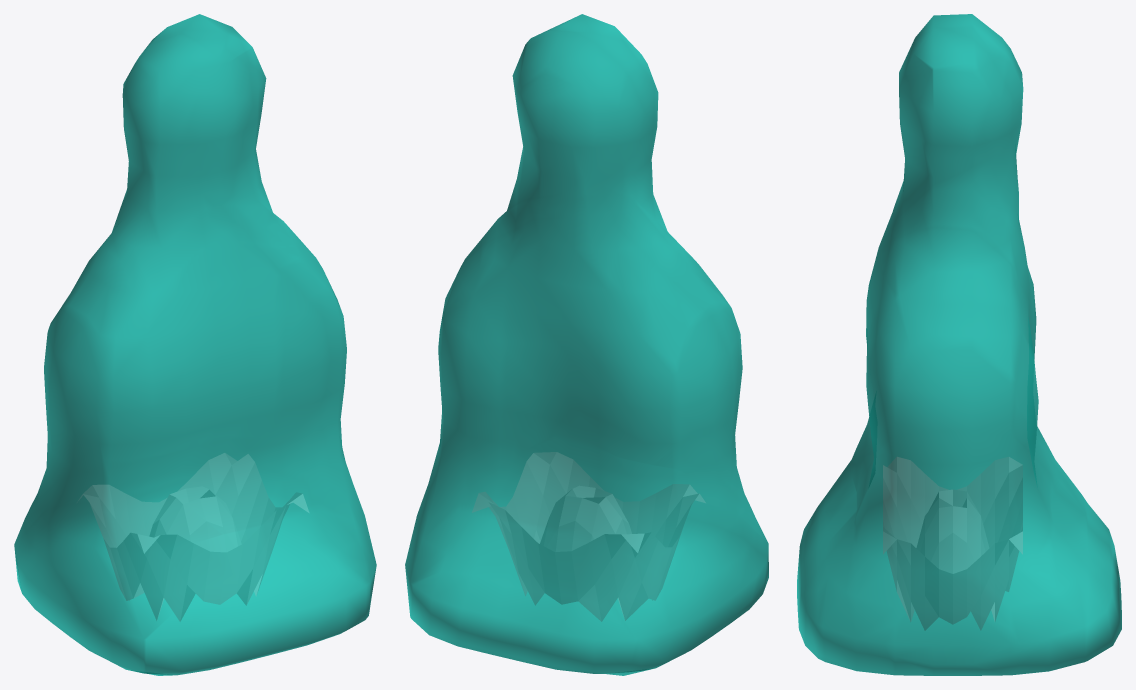
3 views of the same model, side by side, from view 1: azimuth 30°, elevation 25°; view 2: azimuth 150°, elevation 25°; view 3: azimuth 270°, elevation 25° (orthographic). The views are drawn at different scales.
Parts seen in each view (by area): view 1: Liquid_Domain, グリッド; view 2: Liquid_Domain, グリッド; view 3: Liquid_Domain, グリッド.
Part boxes in pixels (x1,y1,x2,y2): Liquid_Domain: [14, 14, 376, 675]; グリッド: [78, 453, 308, 621]; Liquid_Domain: [405, 14, 768, 675]; グリッド: [472, 452, 705, 621]; Liquid_Domain: [797, 14, 1121, 675]; グリッド: [883, 457, 1022, 630].
Bounding box in the file's own units: 0.742 × 1.46 × 0.6955.
